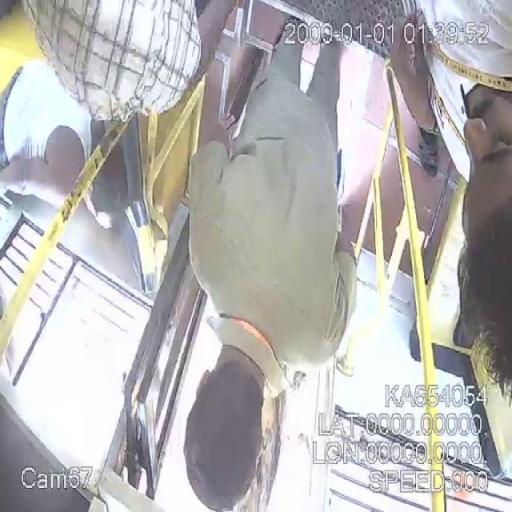persona: (180, 4, 358, 510), (384, 1, 511, 405), (1, 52, 126, 231)
